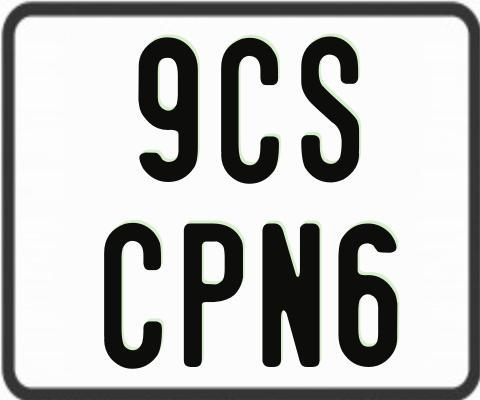6: (335, 222, 394, 367)
9: (136, 37, 201, 186)
C: (221, 36, 279, 187), (102, 223, 160, 370)
N: (260, 221, 321, 366)
P: (181, 221, 241, 371)
S: (300, 36, 363, 184)
